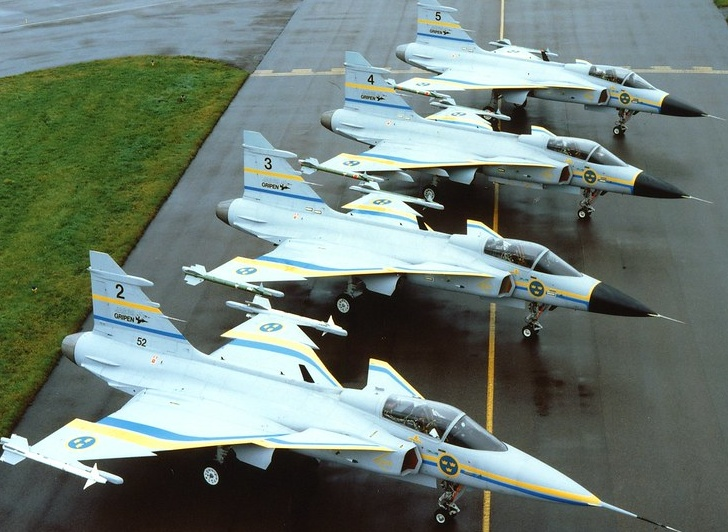JAS39: (1, 249, 681, 532), (181, 129, 687, 339), (298, 50, 715, 220), (384, 1, 727, 136)
